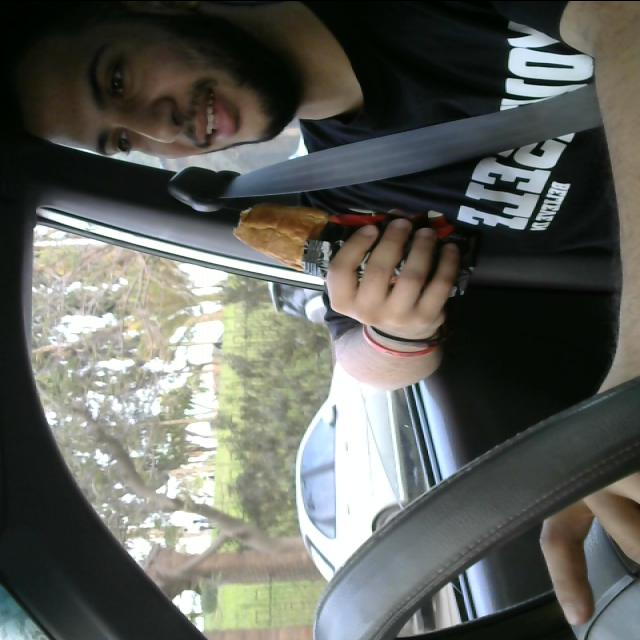eating: (226, 198, 486, 292)
